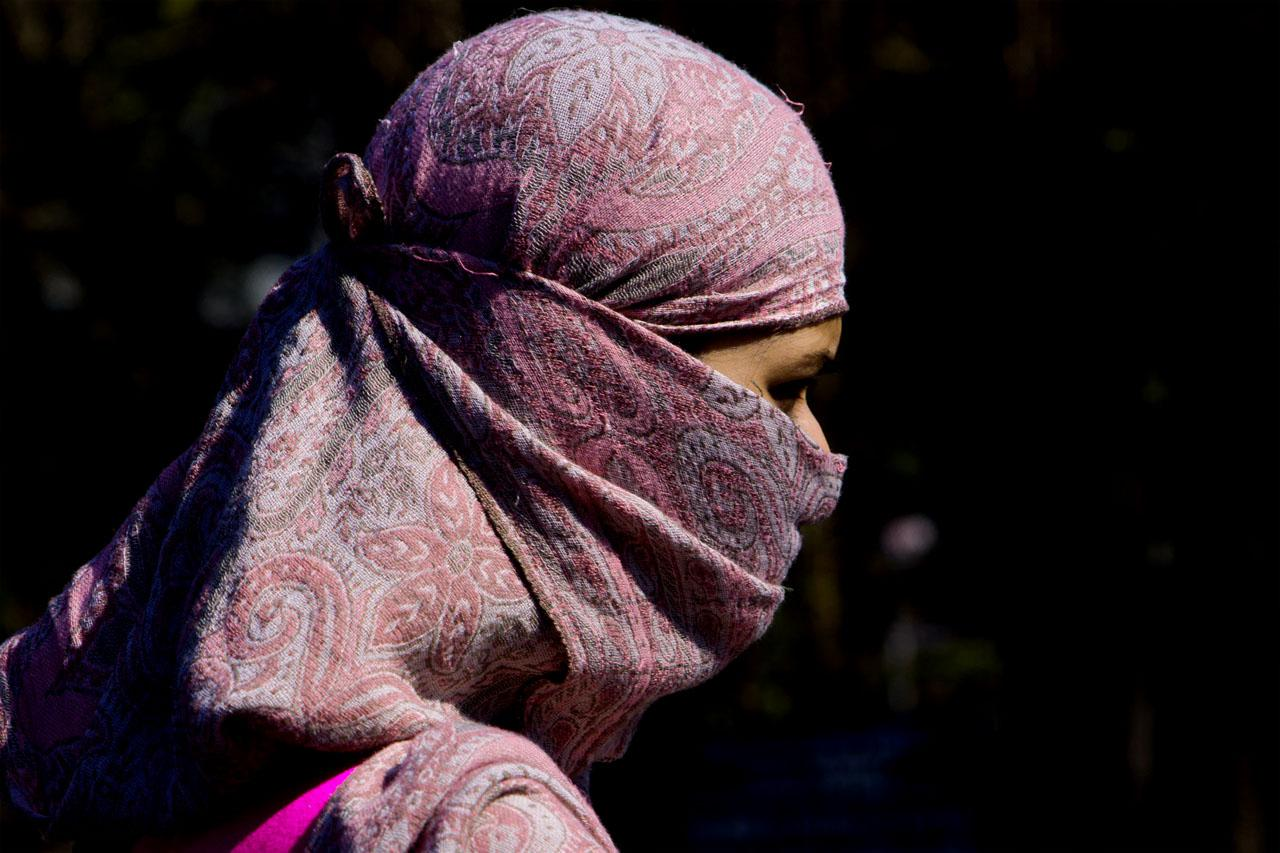OK: (548, 270, 850, 650)
